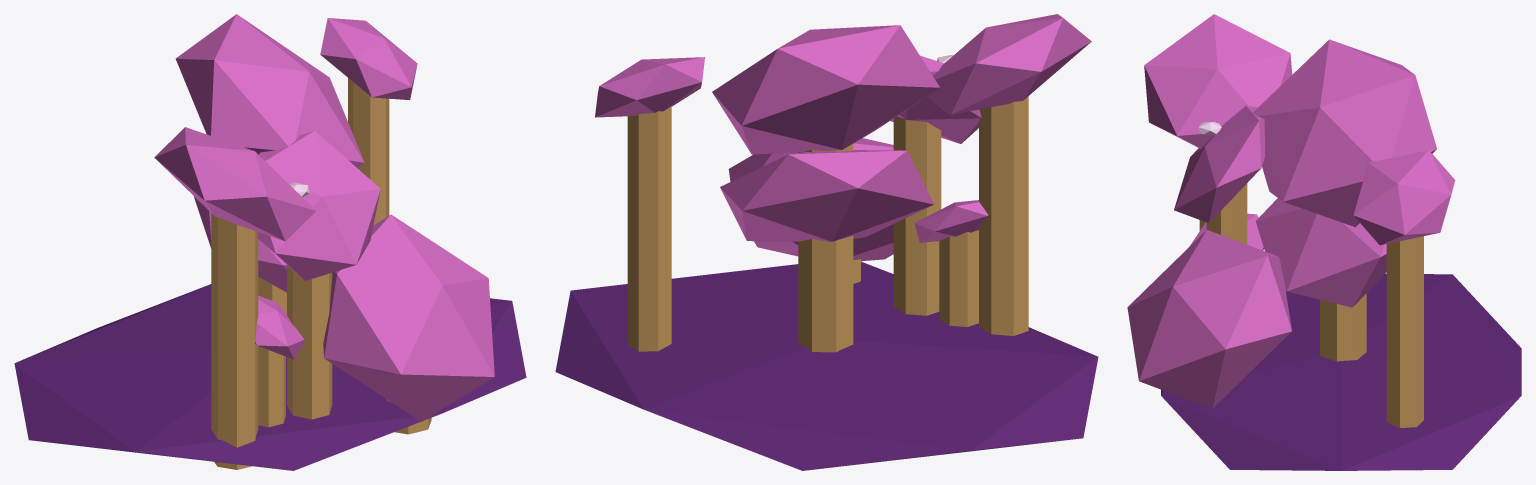
The model's file is mushroom_cluster_c.glb.
3 views of the same model, side by side, from view 1: azimuth 30°, elevation 25°; view 2: azimuth 150°, elevation 25°; view 3: azimuth 270°, elevation 25° (orthographic). The views are drawn at different scales.
Visible parts, largest first — view 1: Mire_Growth.002, Cap_6.001, Cap_3.002, Stem_4.007, Cap_1.002, Cap_4.001, Stem_1.008, Cap_2.002, Stem_2.008, Stem_5.007, Cap_5.001, Cap_7.001 (+1 smaller); view 2: Mire_Growth.002, Cap_3.002, Cap_7.001, Stem_4.007, Stem_2.008, Cap_4.001, Stem_1.008, Stem_3.008, Cap_2.002, Stem_5.007, Cap_6.001, Cap_1.002 (+1 smaller); view 3: Mire_Growth.002, Cap_3.002, Cap_6.001, Cap_4.001, Cap_7.001, Cap_2.002, Stem_2.008, Cap_1.002, Stem_3.008, Stem_1.008, Cap_5.001.
Part boxes in pixels (x1,y1,x2,y2): Mire_Growth.002: (14,284,526,470); Cap_6.001: (323,214,494,421); Cap_3.002: (175,14,364,167); Stem_4.007: (211,213,258,469); Cap_1.002: (258,130,380,280); Cap_4.001: (154,127,315,241); Stem_1.008: (287,265,332,419); Cap_2.002: (320,18,417,100); Stem_2.008: (348,78,389,224); Stem_5.007: (258,346,285,427); Cap_5.001: (255,295,304,359); Cap_7.001: (194,196,286,292); Mire_Growth.002: (555,261,1098,470); Cap_3.002: (712,25,940,154); Cap_7.001: (720,150,933,241); Stem_4.007: (979,96,1028,335); Stem_2.008: (627,106,671,351); Cap_4.001: (927,14,1091,114); Stem_1.008: (893,116,941,315); Stem_3.008: (798,144,852,352); Cap_2.002: (595,57,704,117); Stem_5.007: (939,230,978,326); Cap_6.001: (728,138,893,261); Cap_1.002: (890,55,981,143); Mire_Growth.002: (1161,273,1521,470); Cap_3.002: (1252,39,1436,227); Cap_6.001: (1127,230,1291,408); Cap_4.001: (1144,14,1292,148); Cap_7.001: (1255,198,1386,307); Cap_2.002: (1353,150,1455,245); Stem_2.008: (1386,236,1423,427); Cap_1.002: (1174,105,1265,223); Stem_3.008: (1320,293,1366,361); Stem_1.008: (1206,183,1247,244); Cap_5.001: (1190,213,1263,250).
Size of the model in its own units: 1.7 by 1.19 by 1.3.
